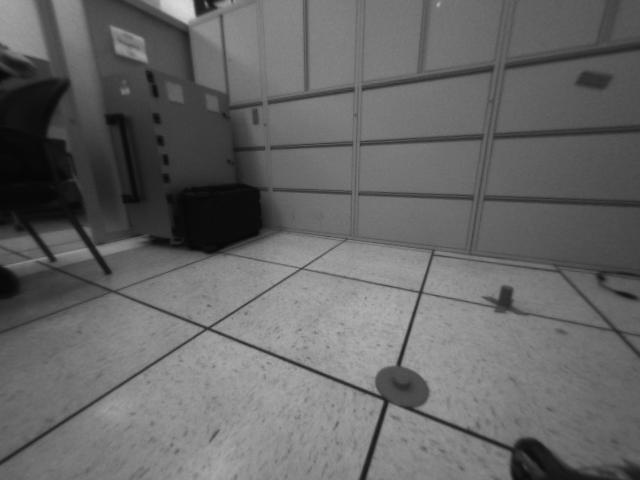X: (480, 284, 526, 314)
